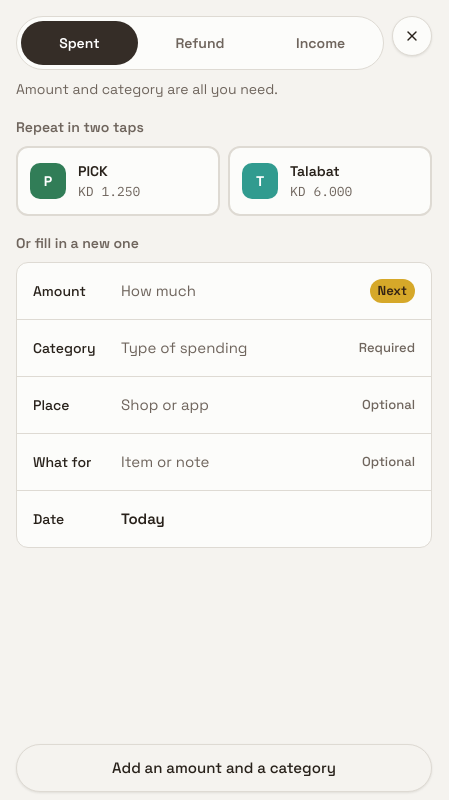
it: /log never overwrites her choices (MOB-R73 E2) › her amount survives a tile tap
Expected: the button "P PICK KD 1.250" is shown, [16,146,220,216]
Click the button "Amount How much Next" at (59, 291), box [17,263,431,319]
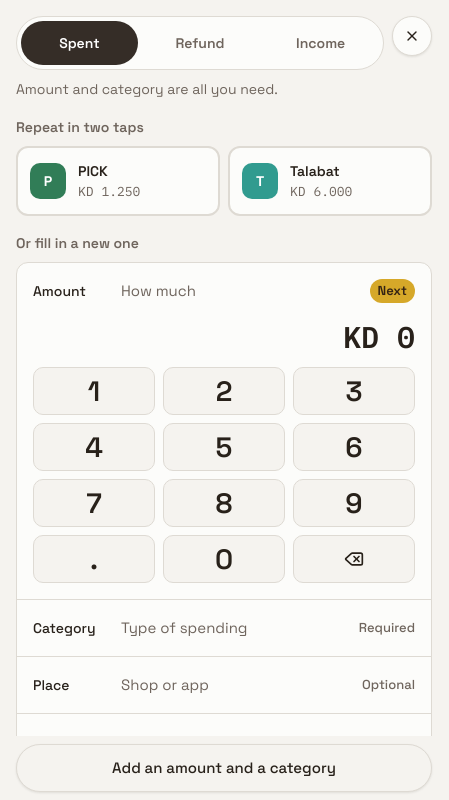
Click the button "7" at (94, 503), box [33,479,155,527]
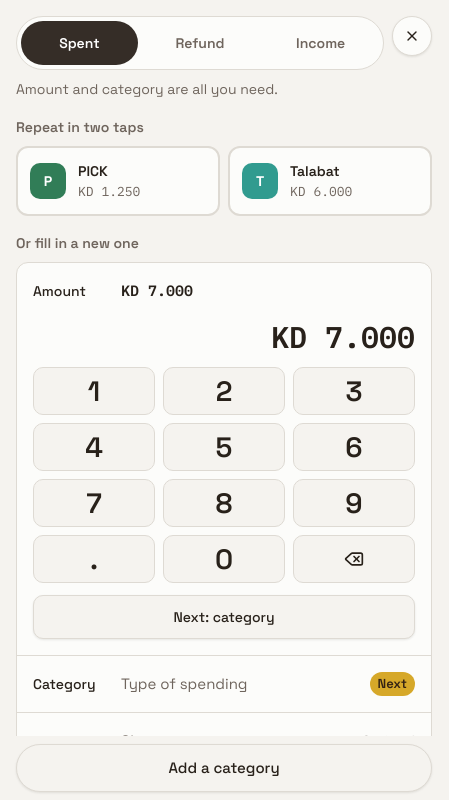
Click the button "P PICK KD 1.250" at (118, 181), box [16,146,220,216]
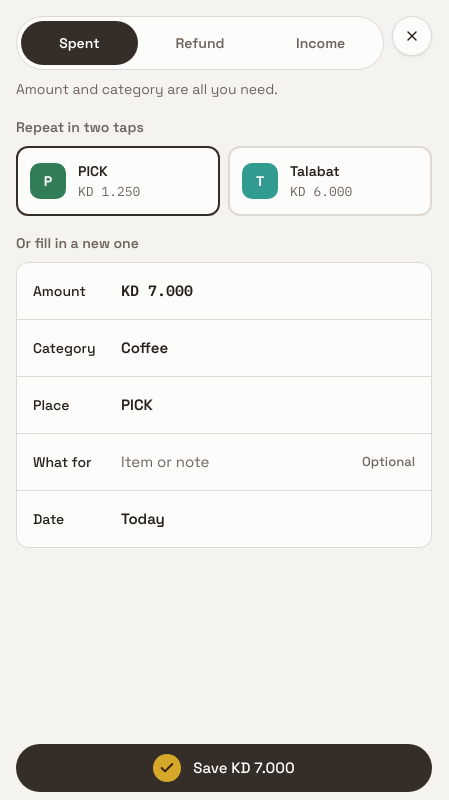
Expected: the button "Amount KD 7.000" is shown, [17,263,431,319]
Expected: the button "Category Coffee" is shown, [17,320,431,376]
